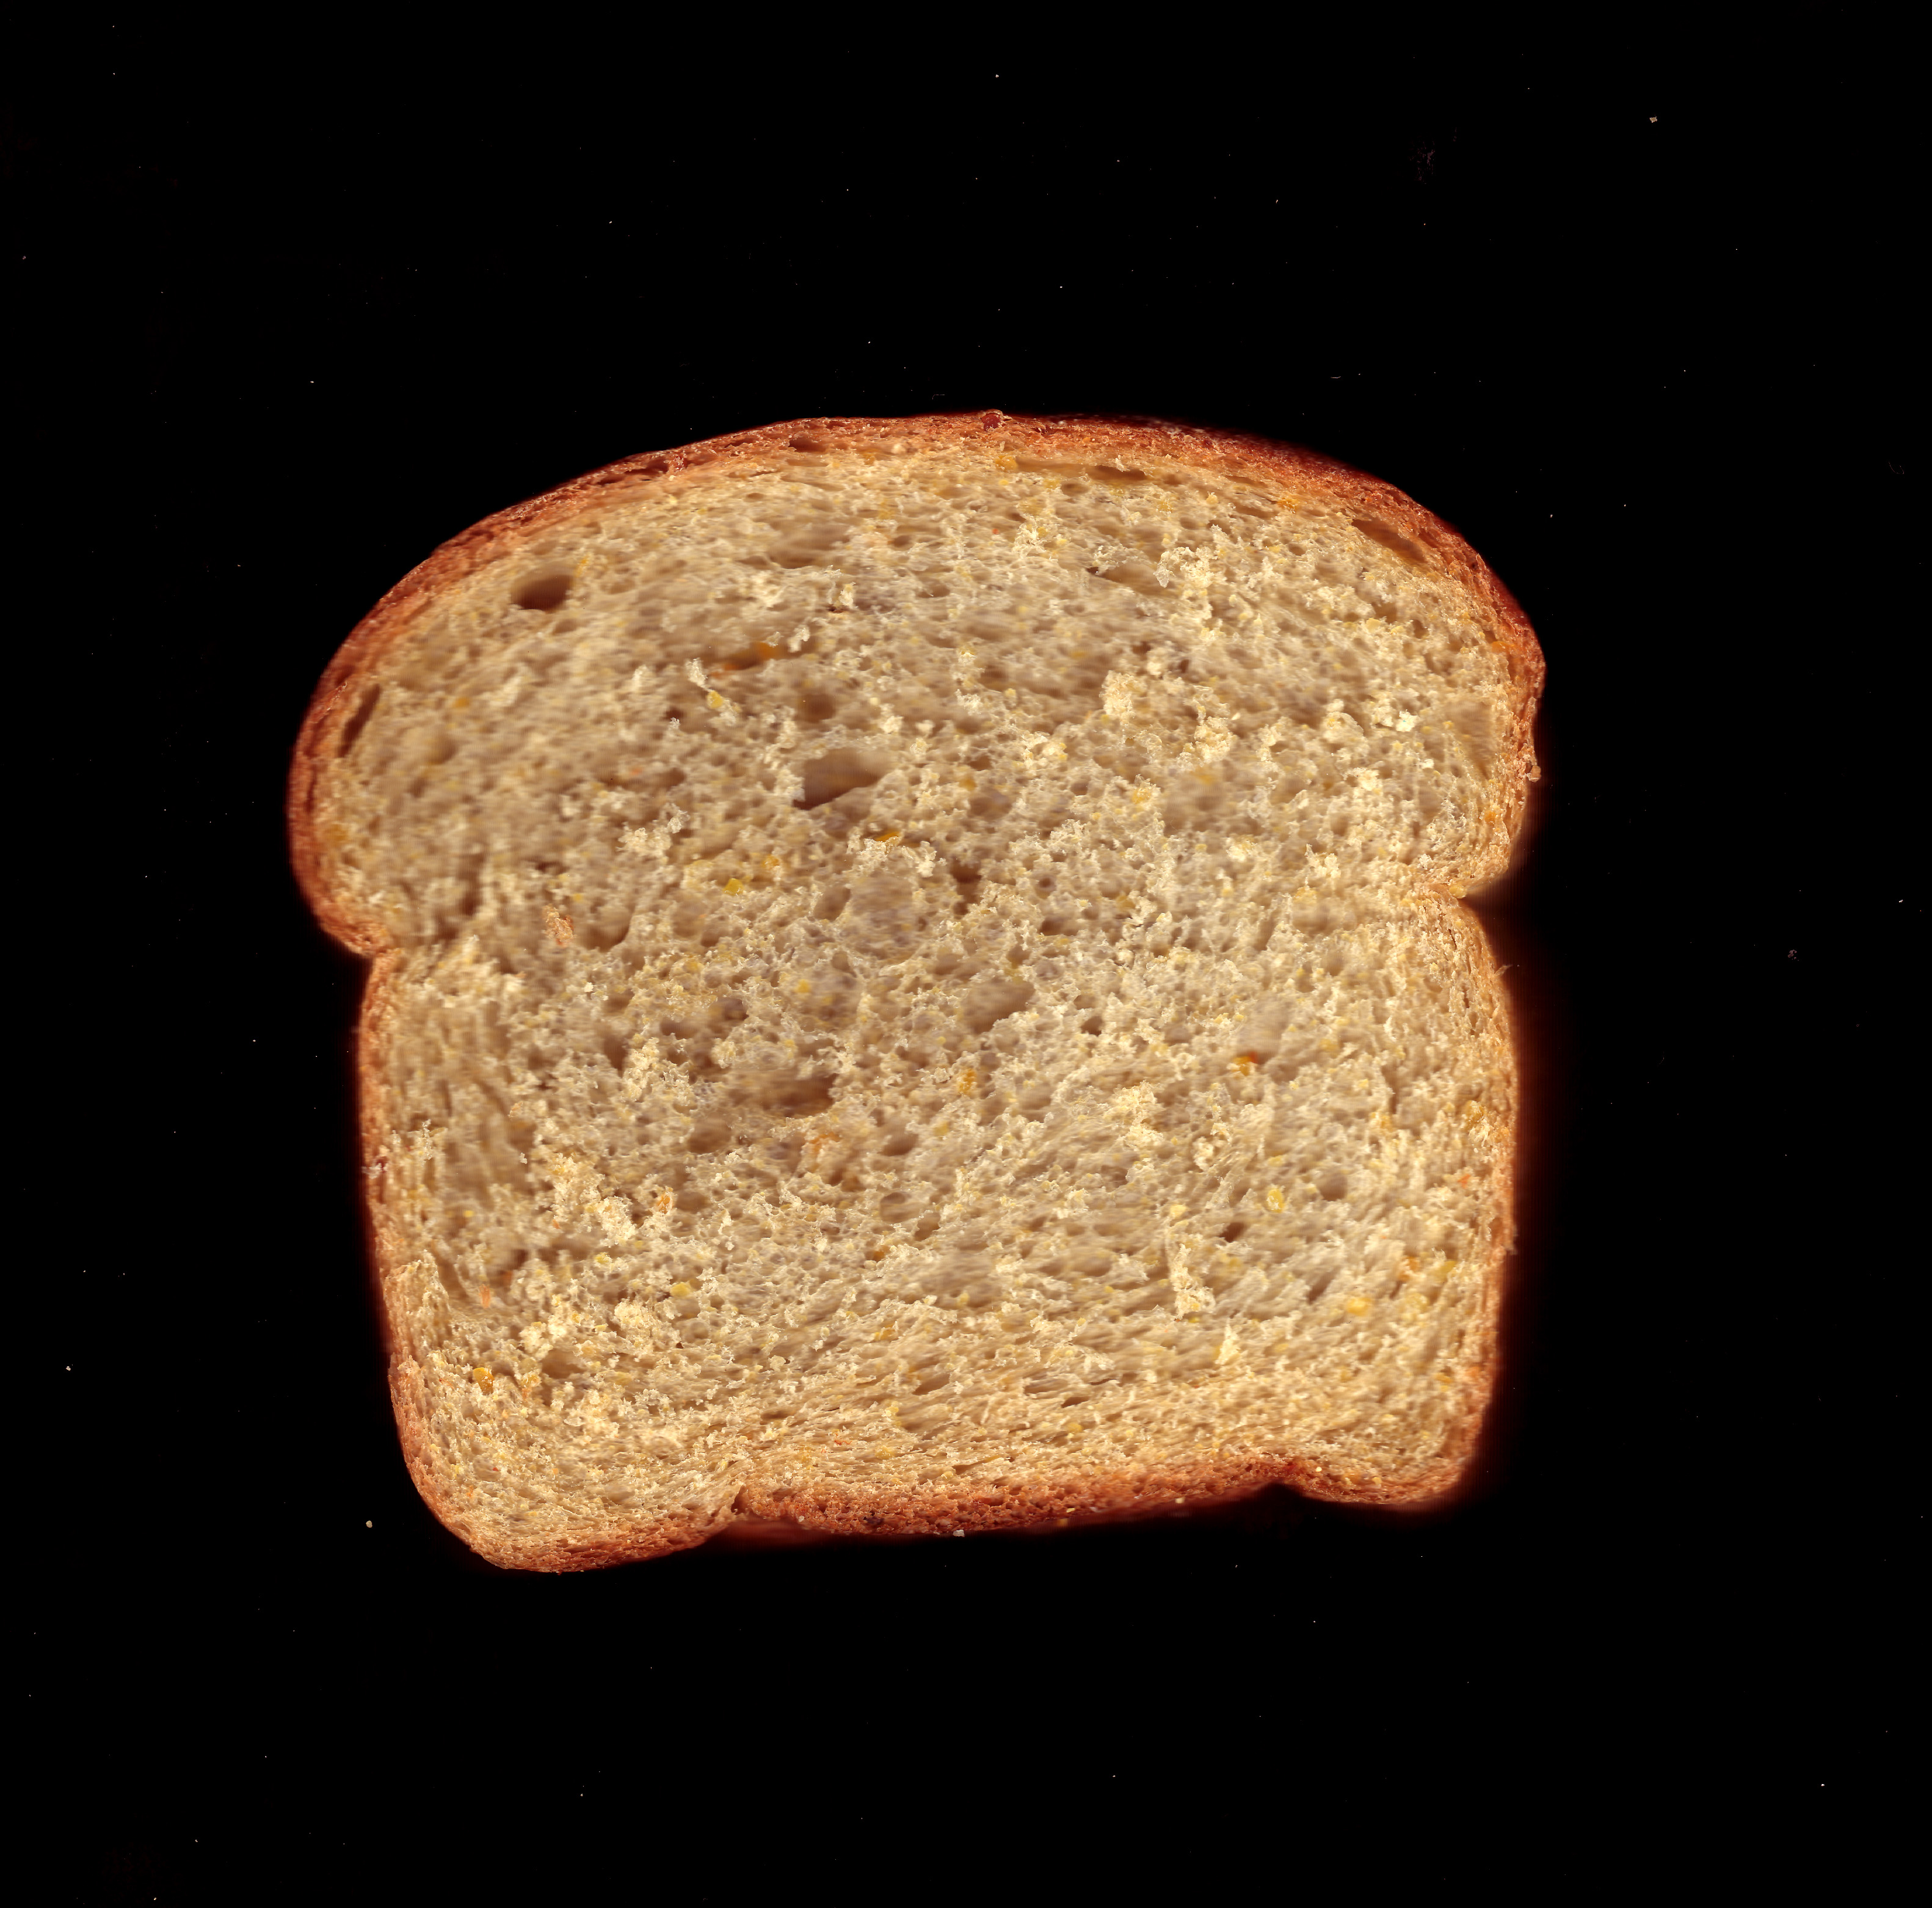slice of bread: (293, 493, 1520, 1553)
